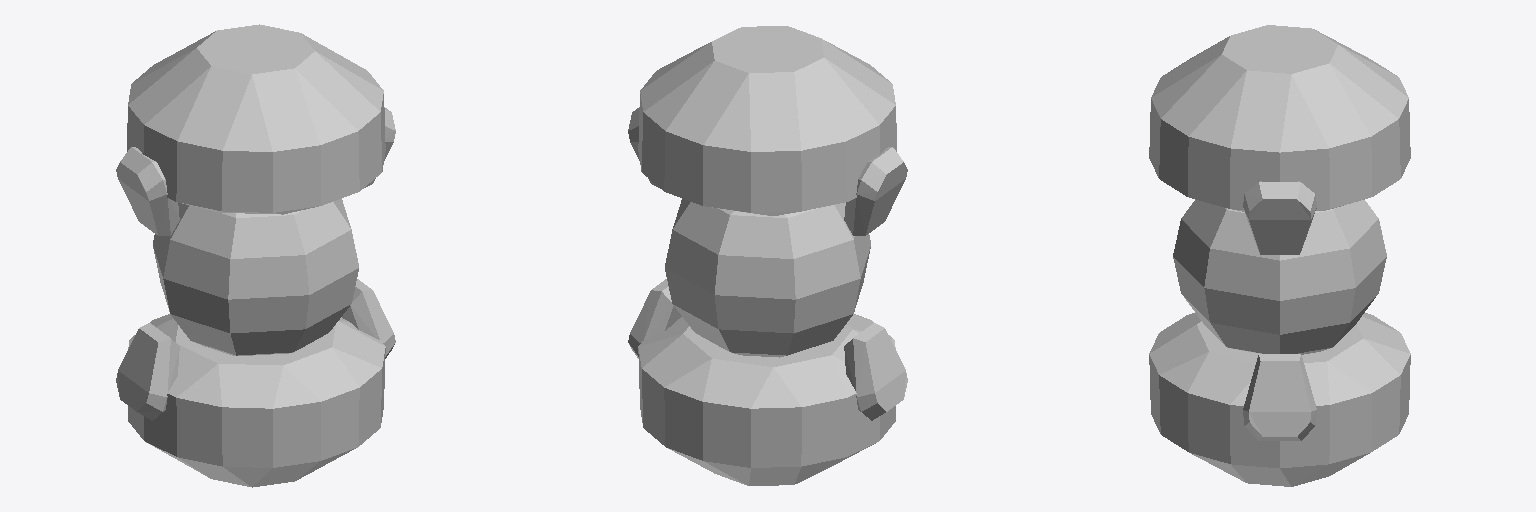
Rendered from ana_grenade.obj.
3 views of the same model, side by side, from view 1: azimuth 30°, elevation 25°; view 2: azimuth 150°, elevation 25°; view 3: azimuth 270°, elevation 25° (orthographic).
Visible parts, largest first — view 1: Submesh_0.1.967E34207D99D1DA, Submesh_1.1.[number redacted]ED3B36203; view 2: Submesh_0.1.967E34207D99D1DA, Submesh_1.1.[number redacted]ED3B36203; view 3: Submesh_0.1.967E34207D99D1DA, Submesh_1.1.[number redacted]ED3B36203.
Part boxes in pixels (left/top/right/bottom): Submesh_0.1.967E34207D99D1DA: left=116, top=24, right=395, bottom=487; Submesh_1.1.[number redacted]ED3B36203: left=153, top=199, right=358, bottom=355; Submesh_0.1.967E34207D99D1DA: left=628, top=26, right=907, bottom=485; Submesh_1.1.[number redacted]ED3B36203: left=665, top=199, right=870, bottom=357; Submesh_0.1.967E34207D99D1DA: left=1149, top=25, right=1410, bottom=486; Submesh_1.1.[number redacted]ED3B36203: left=1173, top=199, right=1386, bottom=354.
Size of the model in its own units: 0.1061 by 0.1644 by 0.0944.